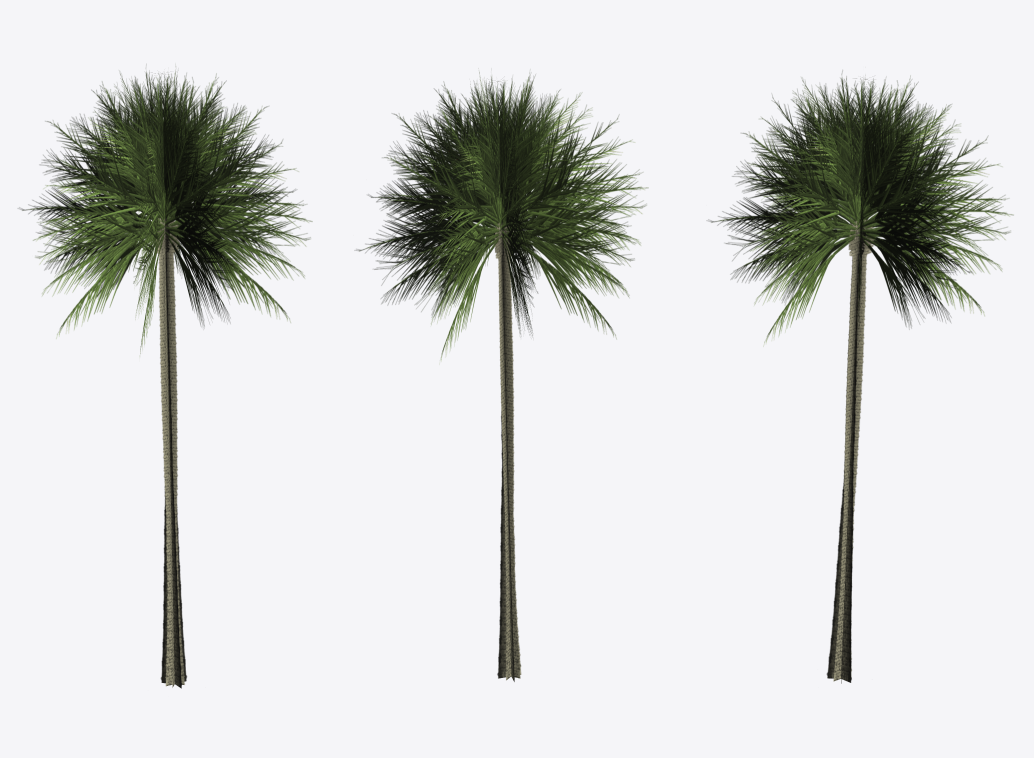
File: low_poly_palm_tree.glb
3 renders of one model, left to right at view 1: azimuth 30°, elevation 25°; view 2: azimuth 150°, elevation 25°; view 3: azimuth 270°, elevation 25°, orthographic.
Parts seen in each view (by area): view 1: pPlane3, pPlane1, pPlane2, pPlane4; view 2: pPlane4, pPlane1, pPlane2, pPlane3; view 3: pPlane2, pPlane4, pPlane3, pPlane1.
Boxes of the visible parts, <box> form: pPlane3: <box>18,75,312,684</box>; pPlane1: <box>33,73,295,686</box>; pPlane2: <box>93,71,242,688</box>; pPlane4: <box>132,71,187,687</box>; pPlane4: <box>355,77,648,678</box>; pPlane1: <box>368,81,636,678</box>; pPlane2: <box>425,73,571,680</box>; pPlane3: <box>467,72,537,681</box>; pPlane2: <box>707,79,1013,678</box>; pPlane4: <box>747,70,972,682</box>; pPlane3: <box>750,75,967,681</box>; pPlane1: <box>841,81,865,683</box>.
Size of the model in its own units: 2.03 by 4.43 by 2.19.
1 material, 1 textured.
